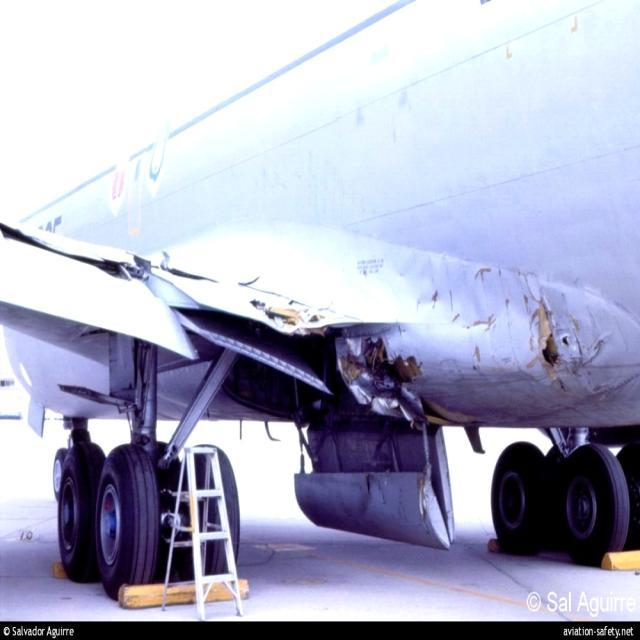crack: (536, 298, 570, 399)
dent: (400, 254, 530, 356)
